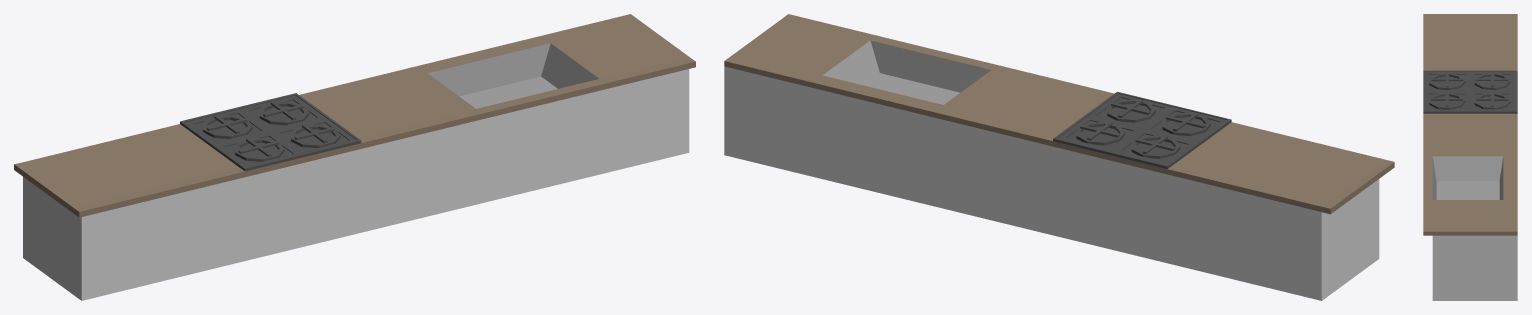
File: Counter.fbx
3 renders of one model, left to right at view 1: azimuth 30°, elevation 25°; view 2: azimuth 150°, elevation 25°; view 3: azimuth 270°, elevation 25°, orthographic. The views are drawn at different scales.
Visible parts, largest first — view 1: Counter; view 2: Counter; view 3: Counter.
Boxes of the visible parts, x1,y1,x2,y2 form: Counter: (14, 14, 695, 300); Counter: (724, 14, 1394, 300); Counter: (1423, 14, 1517, 300).
Size of the model in its own units: 798 by 126 by 146.
